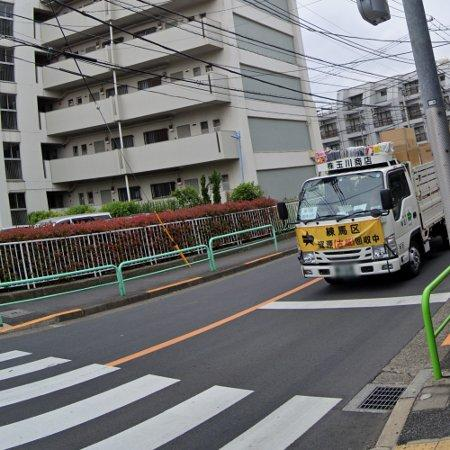crosswalks: (0, 349, 338, 450)
